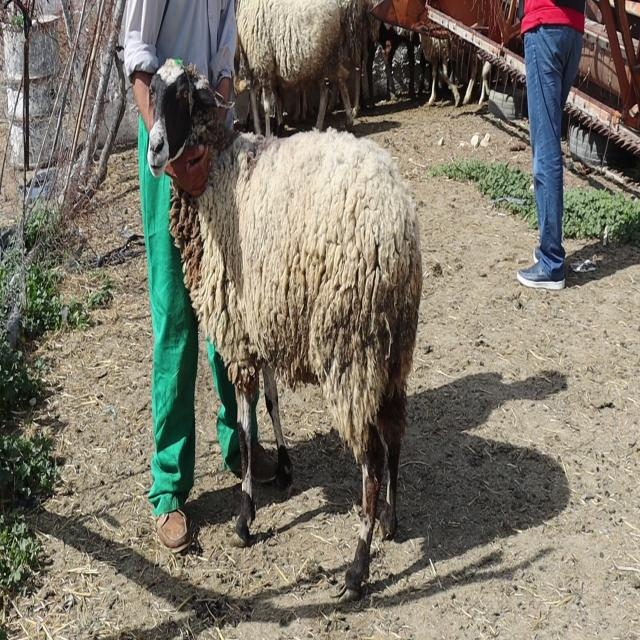Score_5: (147, 59, 423, 599)
